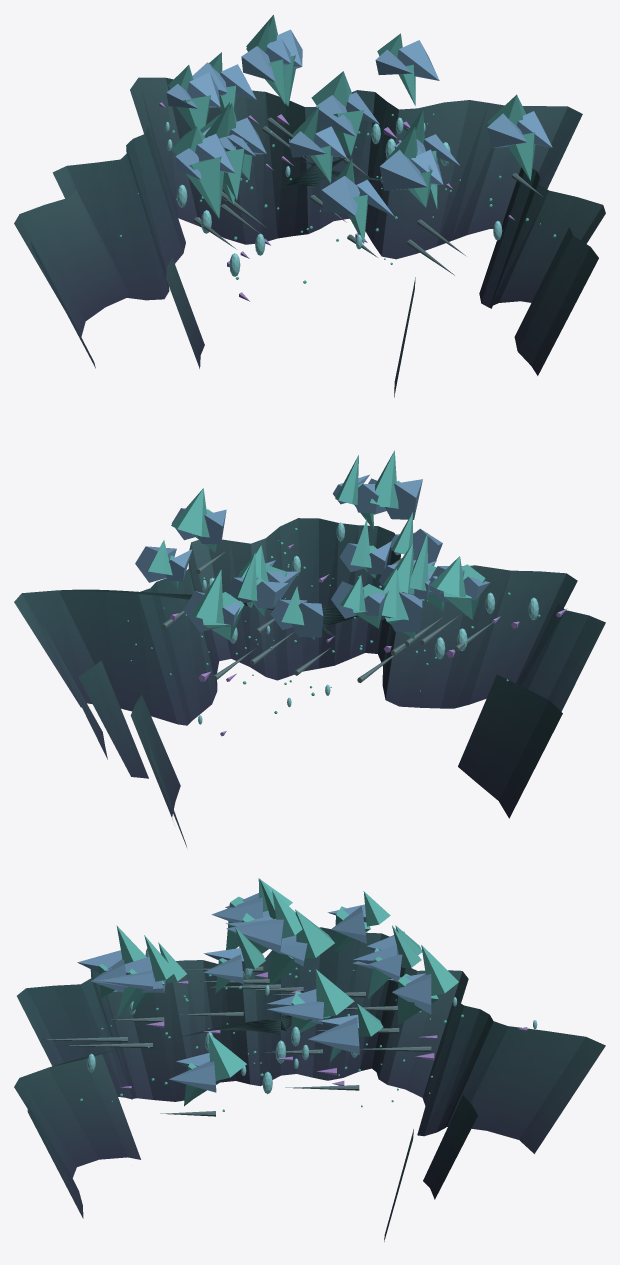
File: hexcore_living_landscape_05.glb
3 views of the same model, one above another, from view 1: azimuth 30°, elevation 25°; view 2: azimuth 150°, elevation 25°; view 3: azimuth 270°, elevation 25° (orthographic). The views are drawn at different scales.
Parts seen in each view (by area): view 1: ELVEN_GROWN_TERRAIN, SCULPTURAL_ELVEN_CANOPIES, BIO_LUMINESCENT_GROUND_LIFE; view 2: ELVEN_GROWN_TERRAIN, SCULPTURAL_ELVEN_CANOPIES, BIO_LUMINESCENT_GROUND_LIFE; view 3: ELVEN_GROWN_TERRAIN, SCULPTURAL_ELVEN_CANOPIES, BIO_LUMINESCENT_GROUND_LIFE.
Part boxes in pixels (<box>): ELVEN_GROWN_TERRAIN: <box>14,77,605,397</box>; SCULPTURAL_ELVEN_CANOPIES: <box>166,15,552,275</box>; BIO_LUMINESCENT_GROUND_LIFE: <box>119,102,556,301</box>; ELVEN_GROWN_TERRAIN: <box>14,518,605,847</box>; SCULPTURAL_ELVEN_CANOPIES: <box>135,450,494,682</box>; BIO_LUMINESCENT_GROUND_LIFE: <box>127,522,567,736</box>; ELVEN_GROWN_TERRAIN: <box>14,927,605,1241</box>; SCULPTURAL_ELVEN_CANOPIES: <box>43,878,458,1116</box>; BIO_LUMINESCENT_GROUND_LIFE: <box>80,948,537,1111</box>.
Bounding box in the file's own units: 94.51 × 43.86 × 92.72.
